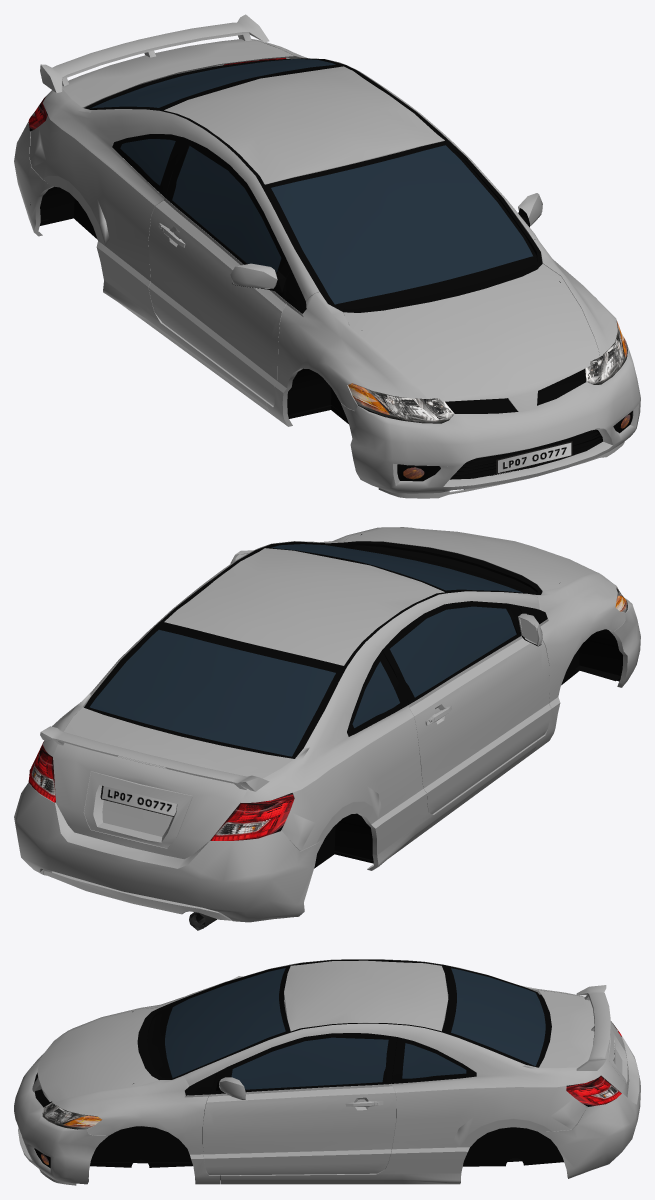
Rendered from Honda_Civic.FBX.
3 renders of one model, top to bottom at view 1: azimuth 30°, elevation 25°; view 2: azimuth 150°, elevation 25°; view 3: azimuth 270°, elevation 25°, orthographic. The views are drawn at different scales.
Visible parts, largest first — view 1: Object003; view 2: Object003; view 3: Object003.
Part boxes in pixels (x1,y1,x2,y2): Object003: (14, 14, 640, 498); Object003: (14, 527, 640, 930); Object003: (14, 959, 640, 1185).
Size of the model in its own units: 1.97 by 1.25 by 4.64.
8 materials, 3 textured.
